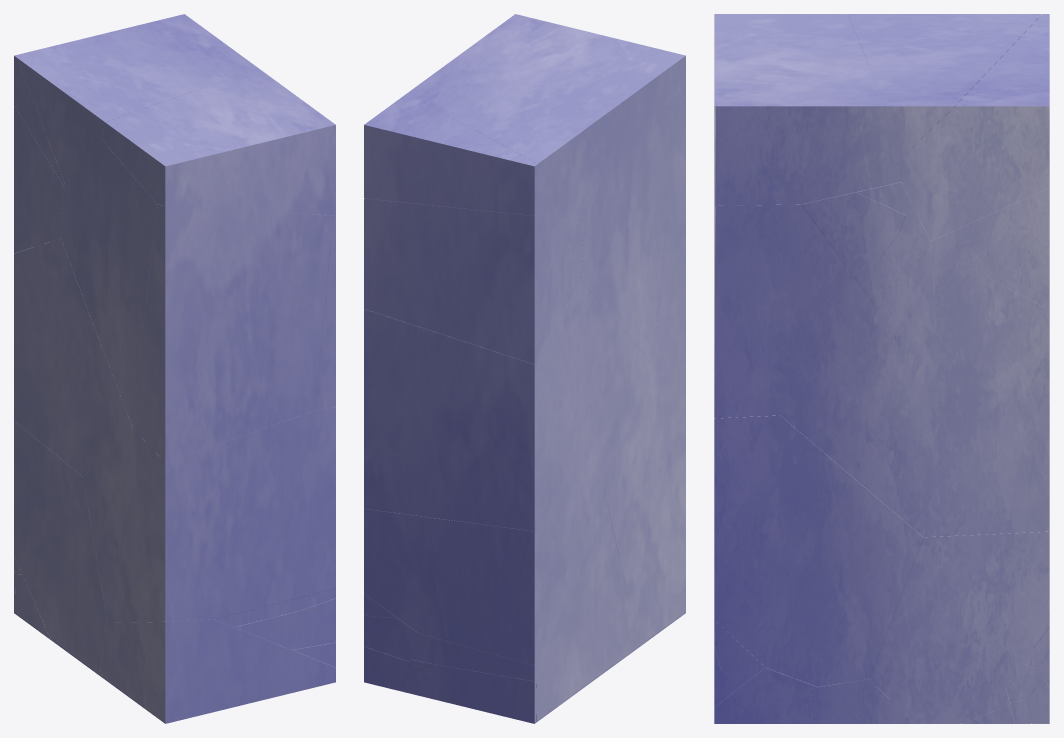
The model's file is broken2.fbx.
3 renders of one model, left to right at view 1: azimuth 30°, elevation 25°; view 2: azimuth 150°, elevation 25°; view 3: azimuth 270°, elevation 25°, orthographic. The views are drawn at different scales.
Parts seen in each view (by area): view 1: 立方體_cell.001, 立方體_cell.010, 立方體_cell.014, 立方體_cell.013, 立方體_cell.008, 立方體_cell.003, 立方體_cell.007, 立方體_cell.009, 立方體_cell.005, 立方體_cell.002, 立方體_cell.004_cell.003, 立方體_cell.006 (+3 smaller); view 2: 立方體_cell.013, 立方體_cell.007, 立方體_cell.002, 立方體_cell.005, 立方體_cell.003, 立方體_cell.009, 立方體_cell.014, 立方體_cell.001, 立方體_cell.010, 立方體_cell.008, 立方體_cell_cell.002, 立方體_cell_cell.003 (+3 smaller); view 3: 立方體_cell.013, 立方體_cell.001, 立方體_cell.014, 立方體_cell.007, 立方體_cell.006, 立方體_cell.005, 立方體_cell.009, 立方體_cell.002, 立方體_cell.015_cell.002, 立方體_cell.012, 立方體_cell.008, 立方體_cell.004_cell.005 (+8 smaller).
Part boxes in pixels (x1,y1,x2,y2): 立方體_cell.001: (83,406,335,622); 立方體_cell.010: (132,204,333,461); 立方體_cell.014: (102,68,335,215); 立方體_cell.013: (14,238,132,476); 立方體_cell.008: (100,619,335,723); 立方體_cell.003: (60,140,156,426); 立方體_cell.007: (14,421,107,672); 立方體_cell.009: (17,45,257,183); 立方體_cell.005: (14,14,226,186); 立方體_cell.002: (14,105,64,253); 立方體_cell.004_cell.003: (235,610,335,649); 立方體_cell.006: (314,215,335,410); 立方體_cell.013: (364,281,652,531); 立方體_cell.007: (364,487,627,696); 立方體_cell.002: (364,198,584,364); 立方體_cell.005: (364,93,585,224); 立方體_cell.003: (581,105,677,364); 立方體_cell.009: (407,70,625,220); 立方體_cell.014: (438,14,685,120); 立方體_cell.001: (603,351,685,596); 立方體_cell.010: (653,95,685,365); 立方體_cell.008: (620,511,685,657); 立方體_cell_cell.002: (401,664,536,723); 立方體_cell_cell.003: (411,633,542,682); 立方體_cell.013: (780,247,1049,537); 立方體_cell.001: (714,415,923,686); 立方體_cell.014: (714,14,901,205); 立方體_cell.007: (869,531,1049,723); 立方體_cell.006: (714,204,872,418); 立方體_cell.005: (901,14,1049,241); 立方體_cell.009: (848,14,1041,156); 立方體_cell.002: (930,188,1049,309); 立方體_cell.015_cell.002: (801,192,905,275); 立方體_cell.012: (782,679,914,723); 立方體_cell.008: (714,667,817,723); 立方體_cell.004_cell.005: (714,623,764,670).
Size of the model in its own units: 317 by 990 by 487.
Materials: 1 (1 with a texture image).
